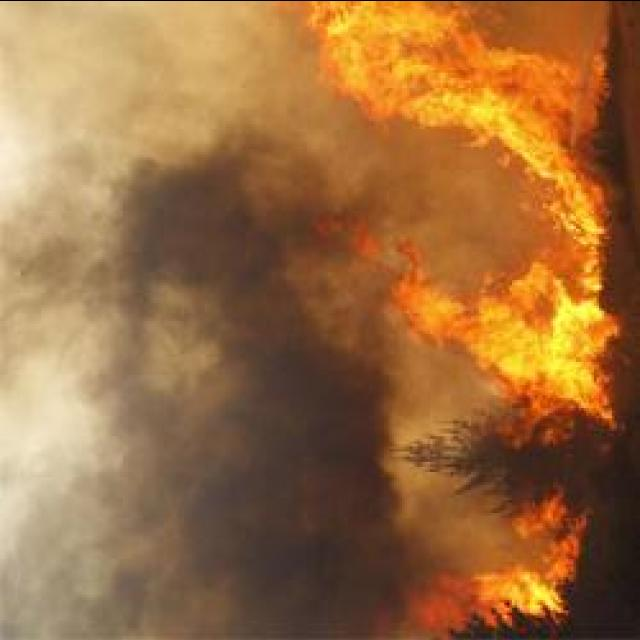fire: (309, 0, 574, 124), (401, 274, 601, 392)
smoke: (3, 381, 397, 638), (0, 108, 304, 377)
